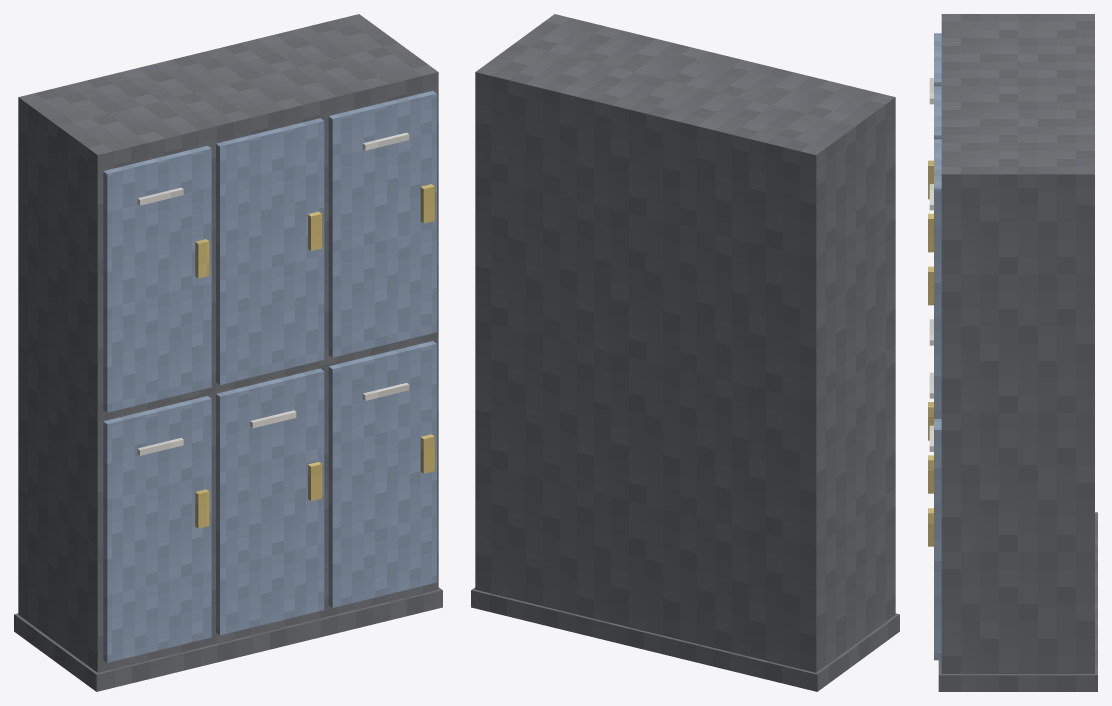
Rendered from pixel-modern-office-lockers-bank-e9da71eb.glb.
3 views of the same model, side by side, from view 1: azimuth 30°, elevation 25°; view 2: azimuth 150°, elevation 25°; view 3: azimuth 270°, elevation 25° (orthographic). The views are drawn at different scales.
Visible parts, largest first — view 1: lockers-bank, door-locker/slate; view 2: lockers-bank; view 3: lockers-bank, door-locker/slate.
Boxes of the visible parts, x1=… form: lockers-bank: x1=14, y1=14, x2=442, y2=691; door-locker/slate: x1=216, y1=118, x2=324, y2=384; lockers-bank: x1=471, y1=14, x2=899, y2=691; lockers-bank: x1=928, y1=14, x2=1097, y2=691; door-locker/slate: x1=934, y1=86, x2=941, y2=139.
Size of the model in its own units: 1.26 by 1.86 by 0.555.
4 materials, 4 textured.
